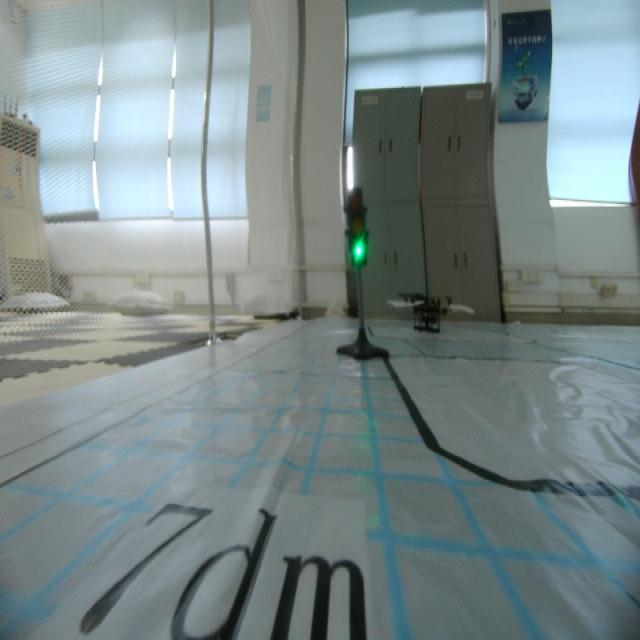green: (343, 183, 374, 272)
